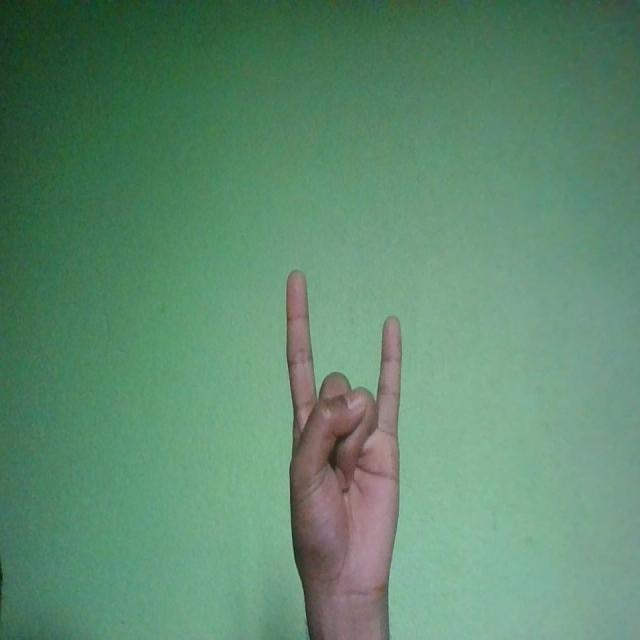open Plam: (286, 270, 404, 612)
